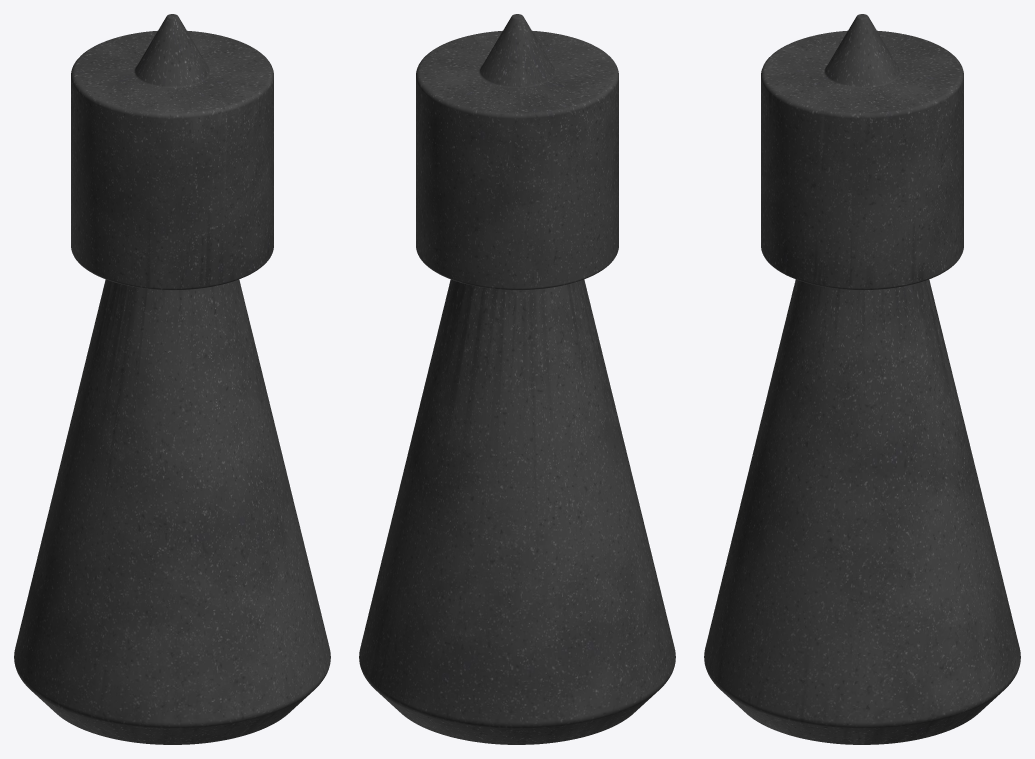
File: queen-black-hd.glb
The picture shows the model from 3 angles, left to right: view 1: azimuth 30°, elevation 25°; view 2: azimuth 150°, elevation 25°; view 3: azimuth 270°, elevation 25°; orthographic projection.
Visible parts, largest first — view 1: 02_dama_cerna; view 2: 02_dama_cerna; view 3: 02_dama_cerna.
Part boxes in pixels (x1=…): 02_dama_cerna: x1=14, y1=14, x2=330, y2=744; 02_dama_cerna: x1=359, y1=14, x2=675, y2=744; 02_dama_cerna: x1=704, y1=14, x2=1020, y2=744.
Size of the model in its own units: 0.65 by 1.53 by 0.65.
1 material, 1 textured.
